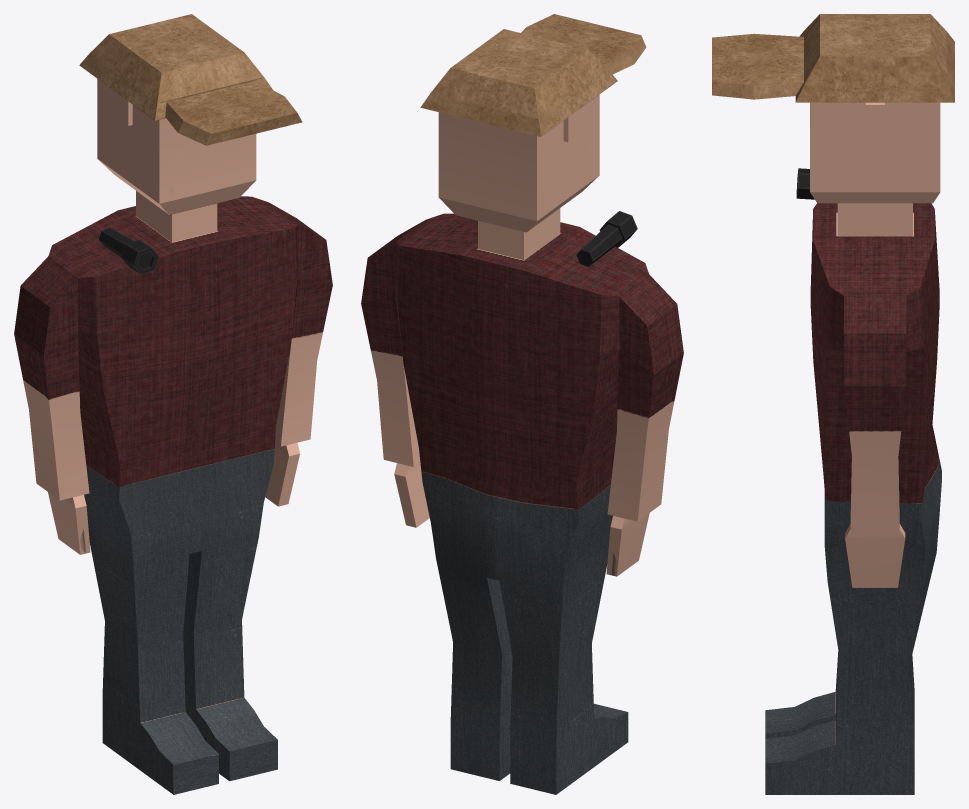
Rendered from Cacador.fbx.
3 renders of one model, left to right at view 1: azimuth 30°, elevation 25°; view 2: azimuth 150°, elevation 25°; view 3: azimuth 270°, elevation 25°, orthographic. The views are drawn at different scales.
Parts seen in each view (by area): view 1: pCube2, pCylinder8; view 2: pCube2, pCylinder8; view 3: pCube2.
Boxes of the visible parts, x1,y1,x2,y2 form: pCube2: (14,14,332,794); pCylinder8: (98,227,158,274); pCube2: (361,14,683,794); pCylinder8: (576,211,637,266); pCube2: (712,14,954,794).
Bounding box in the file's own units: 0.9522 × 2.2 × 0.6594.
Materials: 2 (2 with a texture image).
